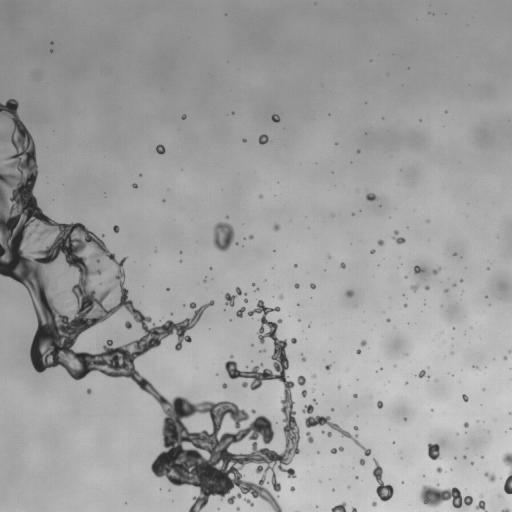droplet: (213, 222, 234, 251), (427, 443, 442, 460), (474, 492, 487, 511), (391, 230, 405, 244), (483, 470, 497, 482), (331, 501, 347, 511), (264, 122, 275, 133), (30, 185, 41, 196), (36, 199, 47, 210), (384, 237, 395, 248), (421, 260, 432, 271), (409, 273, 420, 284), (423, 273, 434, 284), (214, 294, 225, 305), (195, 318, 206, 329), (26, 324, 37, 335), (166, 332, 177, 343), (283, 345, 294, 356), (21, 355, 32, 366), (132, 356, 143, 367), (263, 359, 274, 370), (137, 367, 148, 378), (284, 368, 295, 379), (86, 370, 97, 381), (290, 384, 301, 395), (187, 393, 198, 404), (292, 401, 303, 412), (155, 410, 166, 421), (267, 412, 278, 423), (294, 412, 305, 423), (271, 422, 282, 433), (331, 433, 342, 444), (267, 440, 278, 451), (273, 442, 284, 453), (276, 471, 287, 482), (157, 475, 168, 486), (438, 480, 449, 491), (190, 485, 201, 496), (411, 487, 422, 498), (274, 491, 285, 502), (208, 493, 219, 504), (441, 498, 452, 509), (413, 265, 425, 275), (235, 306, 245, 317), (366, 192, 378, 201), (302, 404, 314, 413), (258, 134, 268, 144), (155, 144, 165, 154), (297, 375, 306, 386), (305, 431, 313, 443), (231, 232, 240, 241), (300, 282, 309, 291), (255, 290, 264, 299), (233, 298, 242, 307), (247, 300, 256, 309), (185, 308, 194, 317), (266, 312, 275, 321), (171, 314, 180, 323), (275, 330, 284, 339), (264, 337, 273, 346), (148, 346, 157, 355), (22, 352, 31, 361), (24, 360, 33, 369), (219, 369, 228, 378), (274, 379, 283, 388), (165, 393, 174, 402), (303, 395, 312, 404), (151, 400, 160, 409), (155, 419, 164, 428), (240, 419, 249, 428), (311, 424, 320, 433), (298, 436, 307, 445), (340, 436, 349, 445), (256, 439, 265, 448), (495, 450, 504, 459), (148, 452, 157, 461), (427, 479, 436, 488), (253, 496, 262, 505), (409, 284, 419, 292), (271, 114, 280, 122), (272, 222, 280, 231), (345, 289, 354, 297), (200, 505, 211, 511), (224, 505, 235, 511), (240, 505, 251, 511), (263, 505, 274, 511), (424, 505, 435, 511), (458, 505, 469, 511), (125, 320, 132, 329), (324, 364, 331, 373), (376, 400, 383, 409), (377, 239, 385, 246), (358, 457, 365, 465), (0, 94, 5, 105), (0, 273, 5, 284), (309, 283, 316, 290), (360, 339, 367, 346), (15, 107, 22, 114), (23, 121, 30, 128), (9, 147, 16, 154), (34, 151, 41, 158), (3, 167, 10, 174), (368, 186, 375, 193), (41, 208, 48, 215), (219, 216, 226, 223), (85, 223, 92, 230), (207, 234, 214, 241), (228, 241, 235, 248), (371, 242, 378, 249), (213, 247, 220, 254), (114, 254, 121, 261), (206, 270, 213, 277), (417, 285, 424, 292), (228, 288, 235, 295), (126, 293, 133, 300), (141, 309, 148, 316), (184, 328, 191, 335), (55, 364, 62, 371), (236, 364, 243, 371), (44, 366, 51, 373), (64, 373, 71, 380), (224, 376, 231, 383), (235, 376, 242, 383), (261, 378, 268, 385), (302, 382, 309, 389), (132, 383, 139, 390), (139, 389, 146, 396), (178, 391, 185, 398), (255, 409, 262, 416), (310, 410, 317, 417), (278, 412, 285, 419), (265, 413, 272, 420), (248, 414, 255, 421), (321, 423, 328, 430), (348, 428, 355, 435), (331, 429, 338, 436), (256, 434, 263, 441), (473, 456, 480, 463), (432, 458, 439, 465), (147, 470, 154, 477), (498, 479, 505, 486), (166, 481, 173, 488), (170, 483, 177, 490), (266, 484, 273, 491), (270, 489, 277, 496), (245, 491, 252, 498), (471, 498, 478, 505), (113, 225, 119, 233), (301, 389, 307, 397), (462, 394, 468, 402), (506, 416, 511, 425), (436, 466, 442, 473), (344, 505, 351, 511), (258, 348, 266, 353), (353, 426, 359, 432), (371, 500, 377, 506), (340, 262, 345, 269), (131, 183, 137, 188), (424, 285, 430, 290), (291, 338, 297, 343), (86, 388, 91, 394), (312, 398, 317, 404), (463, 422, 469, 427), (327, 431, 332, 437), (507, 353, 511, 360), (507, 447, 511, 454), (453, 507, 460, 511), (181, 114, 186, 119), (248, 234, 253, 239), (294, 283, 299, 288), (278, 294, 283, 299), (356, 349, 361, 354), (311, 373, 316, 378), (222, 383, 227, 388), (47, 43, 52, 48), (50, 44, 55, 49), (1, 100, 6, 105), (253, 137, 258, 142), (7, 141, 12, 146), (153, 151, 158, 156), (10, 157, 15, 162), (374, 191, 379, 196), (361, 195, 366, 200), (366, 199, 371, 204), (370, 199, 375, 204), (354, 210, 359, 215), (57, 218, 62, 223), (72, 218, 77, 223), (65, 219, 70, 224), (276, 219, 281, 224), (81, 220, 86, 225), (268, 222, 273, 227), (117, 224, 122, 229), (279, 224, 284, 229), (394, 225, 399, 230), (277, 228, 282, 233), (248, 229, 253, 234), (270, 229, 275, 234), (96, 232, 101, 237), (252, 232, 257, 237), (397, 232, 402, 237), (380, 235, 385, 240), (391, 239, 396, 244), (399, 242, 404, 247), (381, 243, 386, 248), (367, 245, 372, 250), (108, 248, 113, 253), (344, 261, 349, 266), (417, 271, 422, 276), (436, 271, 441, 276), (430, 273, 435, 278), (410, 280, 415, 285), (424, 280, 429, 285), (199, 281, 204, 286), (456, 281, 461, 286), (122, 283, 127, 288), (446, 283, 451, 288), (346, 285, 351, 290), (448, 286, 453, 291), (240, 287, 245, 292), (341, 288, 346, 293), (408, 288, 413, 293), (239, 293, 244, 298), (346, 296, 351, 301), (204, 298, 209, 303), (401, 298, 406, 303), (263, 302, 268, 307), (133, 304, 138, 309), (194, 304, 199, 309), (225, 304, 230, 309), (206, 305, 211, 310), (242, 310, 247, 315), (200, 313, 205, 318), (234, 315, 239, 320), (160, 319, 165, 324), (256, 320, 261, 325), (156, 321, 161, 326), (276, 322, 281, 327), (171, 328, 176, 333), (254, 337, 259, 342), (181, 339, 186, 344), (286, 339, 291, 344), (295, 339, 300, 344), (356, 344, 361, 349), (359, 345, 364, 350), (176, 349, 181, 354), (497, 355, 502, 360), (225, 356, 230, 361), (231, 356, 236, 361), (254, 360, 259, 365), (220, 363, 225, 368), (247, 366, 252, 371), (328, 366, 333, 371), (257, 367, 262, 372), (415, 368, 420, 373), (283, 369, 288, 374), (99, 372, 104, 377), (106, 375, 111, 380), (304, 375, 309, 380), (421, 375, 426, 380), (68, 376, 73, 381), (110, 376, 115, 381), (126, 376, 131, 381), (145, 376, 150, 381), (285, 376, 290, 381), (293, 381, 298, 386), (245, 384, 250, 389), (256, 386, 261, 391), (212, 398, 217, 403), (310, 401, 315, 406), (278, 402, 283, 407), (372, 403, 377, 408), (237, 404, 242, 409), (291, 405, 296, 410), (245, 408, 250, 413), (304, 412, 309, 417), (321, 412, 326, 417), (161, 413, 166, 418), (328, 417, 333, 422), (467, 420, 472, 425), (281, 421, 286, 426), (464, 426, 469, 431), (355, 429, 360, 434), (342, 435, 347, 440), (312, 436, 317, 441), (356, 436, 361, 441), (430, 439, 435, 444), (364, 443, 369, 448), (423, 446, 428, 451), (438, 446, 443, 451), (363, 455, 368, 460), (457, 455, 462, 460), (426, 456, 431, 461), (465, 457, 470, 462), (354, 458, 359, 463), (378, 462, 383, 467), (283, 464, 288, 469), (370, 464, 375, 469), (273, 466, 278, 471), (480, 468, 485, 473), (293, 470, 298, 475), (283, 471, 288, 476), (434, 471, 439, 476), (503, 473, 508, 478), (370, 475, 375, 480), (483, 476, 488, 481), (383, 480, 388, 485), (374, 481, 379, 486), (261, 482, 266, 487), (371, 487, 376, 492), (392, 487, 397, 492), (500, 489, 505, 494), (468, 491, 473, 496), (391, 492, 396, 497), (460, 492, 465, 497), (224, 493, 229, 498), (240, 493, 245, 498), (256, 495, 261, 500), (375, 496, 380, 501), (233, 497, 238, 502), (275, 497, 280, 502), (386, 498, 391, 503), (189, 499, 194, 504), (367, 499, 372, 504), (335, 500, 340, 505), (484, 503, 489, 508), (501, 504, 506, 509), (443, 288, 449, 292), (243, 298, 247, 304), (290, 486, 294, 492), (351, 507, 357, 511), (258, 194, 263, 198), (370, 249, 375, 253), (327, 254, 331, 259), (502, 356, 507, 360), (337, 384, 341, 389), (310, 388, 315, 392), (251, 409, 255, 414), (242, 138, 246, 142), (356, 149, 360, 153), (138, 173, 142, 177), (459, 278, 463, 282), (251, 282, 255, 286), (166, 287, 170, 291), (403, 303, 407, 307), (386, 318, 390, 322), (434, 378, 438, 382), (353, 394, 357, 398), (462, 455, 466, 459), (453, 456, 457, 460), (470, 461, 474, 465), (354, 475, 358, 479), (452, 252, 457, 255), (236, 506, 239, 511), (508, 492, 511, 497), (508, 505, 511, 510), (238, 508, 243, 511), (477, 508, 482, 511), (334, 142, 338, 145), (162, 198, 165, 202), (426, 219, 429, 223), (101, 233, 104, 237), (179, 250, 182, 254), (179, 259, 182, 263), (293, 264, 297, 267), (209, 266, 212, 270), (486, 267, 490, 270), (452, 283, 456, 286), (296, 303, 300, 306), (452, 326, 455, 330), (250, 343, 254, 346), (508, 349, 511, 353), (450, 351, 454, 354), (380, 366, 383, 370), (405, 381, 408, 385), (482, 387, 485, 391), (330, 408, 334, 411), (403, 417, 406, 421), (316, 450, 319, 454), (401, 480, 404, 484), (347, 485, 350, 489), (427, 11, 430, 14), (50, 41, 53, 44), (50, 49, 53, 52), (231, 111, 234, 114), (444, 110, 447, 113), (351, 212, 354, 215), (225, 215, 228, 218), (235, 242, 238, 245), (404, 275, 407, 278), (484, 295, 487, 298), (182, 304, 185, 307), (440, 304, 443, 307), (170, 312, 173, 315), (229, 318, 232, 321), (297, 318, 300, 321), (245, 365, 248, 368), (393, 364, 396, 367), (451, 373, 454, 376), (430, 408, 433, 411), (321, 430, 324, 433), (456, 432, 459, 435), (392, 441, 395, 444), (422, 474, 425, 477), (499, 476, 502, 479), (331, 488, 334, 491), (315, 505, 318, 508), (217, 507, 220, 510), (430, 9, 433, 12), (429, 13, 432, 16), (48, 38, 51, 41), (52, 39, 55, 42), (46, 49, 49, 52), (52, 49, 55, 52), (441, 108, 444, 111), (447, 109, 450, 112), (182, 110, 185, 113), (228, 111, 231, 114), (234, 111, 237, 114), (275, 111, 278, 114), (441, 111, 444, 114), (324, 112, 327, 115), (179, 113, 182, 116), (185, 113, 188, 116), (231, 114, 234, 117), (268, 116, 271, 119), (279, 116, 282, 119), (183, 118, 186, 121), (270, 119, 273, 122), (416, 120, 419, 123), (273, 121, 276, 124), (262, 131, 265, 134), (258, 132, 261, 135), (266, 133, 269, 136), (242, 135, 245, 138), (246, 138, 249, 141), (267, 138, 270, 141), (335, 139, 338, 142), (242, 141, 245, 144), (263, 142, 266, 145), (153, 144, 156, 147), (163, 144, 166, 147), (335, 144, 338, 147), (164, 147, 167, 150), (353, 148, 356, 151), (153, 149, 156, 152), (359, 150, 362, 153), (159, 153, 162, 156), (136, 171, 139, 174), (141, 172, 144, 175), (136, 183, 139, 186), (129, 185, 132, 188), (133, 187, 136, 190), (255, 194, 258, 197), (159, 196, 162, 199), (164, 196, 167, 199), (164, 200, 167, 203), (160, 201, 163, 204), (351, 209, 354, 212), (348, 212, 351, 215), (351, 215, 354, 218), (110, 228, 113, 231), (391, 232, 394, 235), (99, 236, 102, 239), (245, 236, 248, 239), (250, 238, 253, 241), (272, 246, 275, 249), (151, 247, 154, 250), (181, 248, 184, 251), (451, 250, 454, 253), (176, 251, 179, 254), (181, 251, 184, 254), (273, 251, 276, 254), (370, 253, 373, 256), (452, 255, 455, 258), (324, 256, 327, 259), (181, 258, 184, 261), (293, 260, 296, 263), (122, 261, 125, 264), (208, 263, 211, 266), (270, 263, 273, 266), (290, 263, 293, 266), (337, 263, 340, 266), (398, 264, 401, 267), (411, 264, 414, 267), (488, 264, 491, 267), (211, 265, 214, 268), (419, 265, 422, 268), (440, 265, 443, 268), (295, 266, 298, 269), (434, 266, 437, 269), (206, 267, 209, 270), (339, 267, 342, 270), (411, 269, 414, 272), (485, 269, 488, 272), (124, 272, 127, 275), (204, 272, 207, 275), (201, 275, 204, 278), (400, 275, 403, 278), (461, 276, 464, 279), (205, 277, 208, 280), (199, 279, 202, 282), (251, 279, 254, 282), (296, 280, 299, 283), (451, 280, 454, 283), (313, 281, 316, 284), (248, 282, 251, 285), (165, 284, 168, 287), (291, 284, 294, 287), (298, 284, 301, 287), (253, 285, 256, 288), (258, 286, 261, 289), (314, 286, 317, 289), (293, 287, 296, 290), (308, 287, 311, 290), (311, 288, 314, 291), (440, 288, 443, 291), (425, 289, 428, 292), (166, 290, 169, 293), (255, 290, 258, 293), (458, 290, 461, 293), (446, 291, 449, 294), (483, 292, 486, 295), (282, 293, 285, 296), (404, 294, 407, 297), (487, 294, 490, 297), (27, 295, 30, 298), (400, 295, 403, 298), (484, 297, 487, 300), (189, 299, 192, 302), (213, 300, 216, 303), (424, 300, 427, 303), (298, 301, 301, 304), (29, 302, 32, 305), (293, 302, 296, 305), (420, 302, 423, 305), (179, 303, 182, 306), (278, 304, 281, 307), (400, 304, 403, 307), (406, 304, 409, 307), (424, 304, 427, 307), (271, 305, 274, 308), (295, 305, 298, 308), (296, 315, 299, 318), (385, 315, 388, 318), (389, 317, 392, 320), (300, 318, 303, 321), (281, 319, 284, 322), (306, 320, 309, 323), (228, 321, 231, 324), (297, 321, 300, 324), (386, 321, 389, 324), (309, 323, 312, 326), (304, 324, 307, 327), (307, 327, 310, 330), (449, 327, 452, 330), (454, 327, 457, 330), (190, 337, 193, 340), (295, 337, 298, 340), (247, 342, 250, 345), (250, 346, 253, 349), (507, 346, 510, 349), (353, 350, 356, 353), (302, 353, 305, 356), (356, 353, 359, 356), (299, 355, 302, 358), (305, 357, 308, 360), (504, 359, 507, 362), (303, 360, 306, 363), (325, 362, 328, 365), (473, 362, 476, 365), (468, 364, 471, 367), (477, 364, 480, 367), (382, 366, 385, 369), (376, 367, 379, 370), (472, 367, 475, 370), (323, 368, 326, 371), (372, 369, 375, 372), (424, 372, 427, 375), (448, 373, 451, 376), (453, 374, 456, 377), (415, 375, 418, 378), (428, 377, 431, 380), (358, 378, 361, 381), (404, 378, 407, 381), (355, 380, 358, 383), (384, 380, 387, 383), (407, 380, 410, 383), (401, 381, 404, 384), (335, 382, 338, 385), (406, 383, 409, 386), (219, 384, 222, 387), (334, 386, 337, 389), (221, 387, 224, 390), (224, 387, 227, 390), (339, 387, 342, 390), (83, 388, 86, 391), (90, 388, 93, 391), (484, 388, 487, 391), (353, 390, 356, 393), (465, 392, 468, 395), (356, 393, 359, 396), (352, 397, 355, 400), (315, 398, 318, 401), (460, 398, 463, 401), (467, 398, 470, 401), (382, 403, 385, 406), (330, 404, 333, 407), (431, 405, 434, 408), (252, 406, 255, 409), (433, 408, 436, 411), (428, 410, 431, 413), (403, 414, 406, 417), (508, 414, 511, 417), (406, 417, 409, 420), (401, 419, 404, 422), (479, 419, 482, 422), (461, 421, 464, 424), (353, 422, 356, 425), (357, 425, 360, 428), (461, 425, 464, 428), (452, 432, 455, 435), (389, 439, 392, 442), (394, 441, 397, 444), (343, 447, 346, 450), (319, 450, 322, 453), (313, 451, 316, 454), (330, 452, 333, 455), (464, 452, 467, 455), (480, 452, 483, 455), (294, 453, 297, 456), (374, 456, 377, 459), (451, 458, 454, 461), (471, 458, 474, 461), (481, 458, 484, 461), (472, 463, 475, 466), (441, 468, 444, 471), (354, 472, 357, 475), (419, 473, 422, 476), (424, 473, 427, 476), (357, 477, 360, 480), (400, 477, 403, 480), (354, 478, 357, 481), (403, 481, 406, 484), (331, 484, 334, 487), (294, 486, 297, 489), (334, 487, 337, 490), (156, 488, 159, 491), (328, 488, 331, 491), (293, 489, 296, 492), (289, 490, 292, 493), (481, 497, 484, 500), (121, 500, 124, 503), (126, 500, 129, 503), (123, 503, 126, 506), (317, 504, 320, 507), (331, 504, 334, 507), (352, 504, 355, 507), (251, 505, 254, 508), (312, 505, 315, 508), (371, 505, 374, 508), (315, 507, 318, 510), (355, 507, 358, 510), (263, 279, 267, 281), (463, 447, 467, 449), (480, 456, 484, 458), (369, 59, 372, 61), (381, 117, 384, 119), (243, 237, 246, 239), (496, 236, 499, 238), (488, 303, 490, 306), (469, 326, 472, 328), (440, 331, 443, 333), (328, 350, 331, 352), (215, 373, 218, 375), (508, 412, 511, 414), (275, 421, 278, 423), (476, 420, 479, 422), (487, 430, 489, 433), (400, 456, 402, 459), (318, 480, 321, 482), (159, 487, 161, 490), (168, 488, 170, 491), (498, 494, 500, 497), (509, 364, 511, 367), (509, 409, 511, 412), (509, 424, 511, 427), (509, 429, 511, 432), (217, 509, 220, 511), (328, 509, 331, 511), (225, 13, 227, 15), (432, 13, 434, 15), (328, 113, 330, 115), (419, 119, 421, 121), (273, 250, 275, 252), (460, 256, 462, 258), (377, 264, 379, 266), (324, 269, 326, 271), (402, 294, 404, 296), (424, 303, 426, 305), (223, 309, 225, 311), (288, 315, 290, 317), (451, 337, 453, 339), (405, 353, 407, 355), (251, 360, 253, 362), (427, 366, 429, 368), (376, 370, 378, 372), (356, 378, 358, 380), (388, 380, 390, 382), (356, 415, 358, 417), (352, 467, 354, 469), (450, 468, 452, 470), (328, 478, 330, 480), (332, 171, 333, 173), (277, 181, 278, 183), (274, 194, 275, 196), (379, 205, 381, 206), (407, 226, 408, 228), (242, 245, 243, 247), (272, 267, 273, 269), (322, 393, 323, 395), (509, 428, 511, 429), (160, 320, 161, 321)
ligament: (304, 415, 371, 456), (372, 458, 393, 501), (502, 452, 511, 494), (330, 446, 344, 454), (243, 497, 254, 507), (431, 266, 441, 274), (300, 353, 306, 361), (472, 365, 480, 370), (501, 507, 511, 511), (254, 287, 259, 292), (203, 276, 207, 282), (154, 246, 157, 253), (308, 322, 311, 327), (293, 510, 300, 511), (99, 283, 103, 284), (211, 278, 213, 279)
